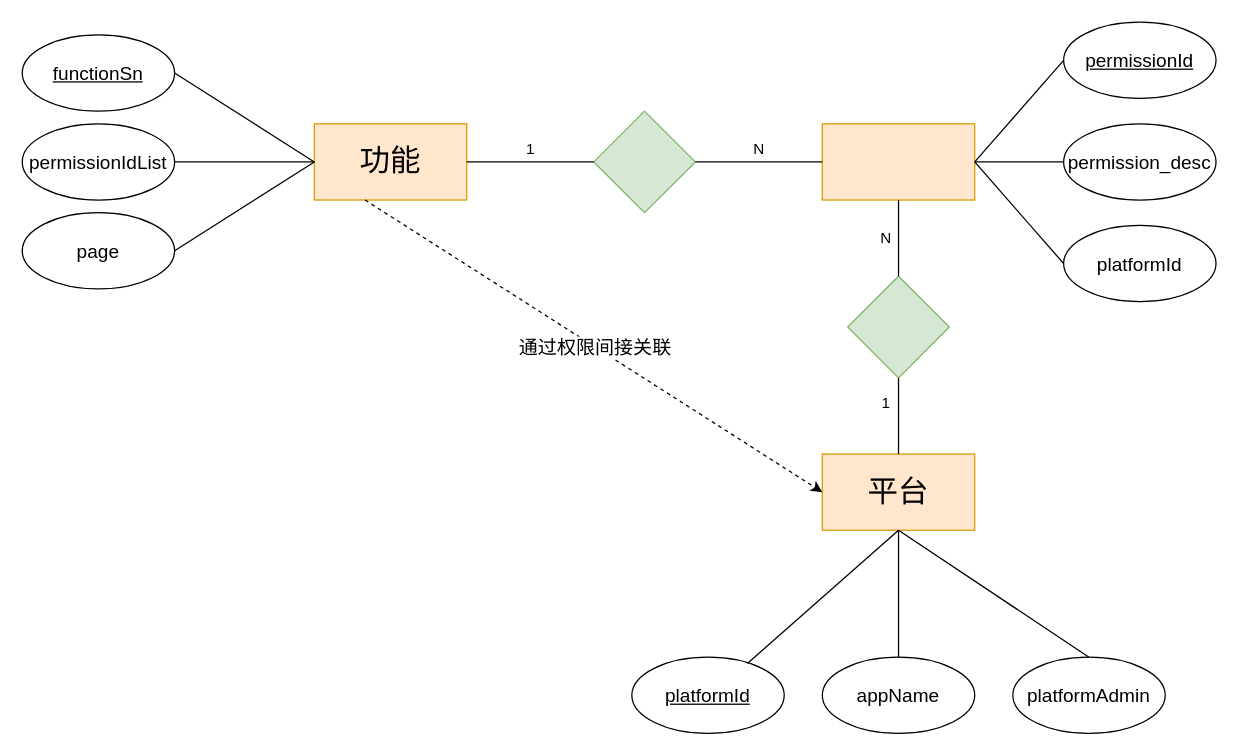
Image size: 1238x756. Some labels were removed from this diagram. Each missing label, with the centre of its shape:
"包含" goes at (x=643, y=161).
"属于" goes at (x=897, y=326).
"权限" goes at (x=898, y=161).
